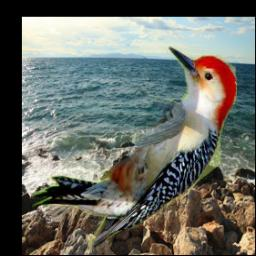Woodpecker: (31, 47, 236, 249)
